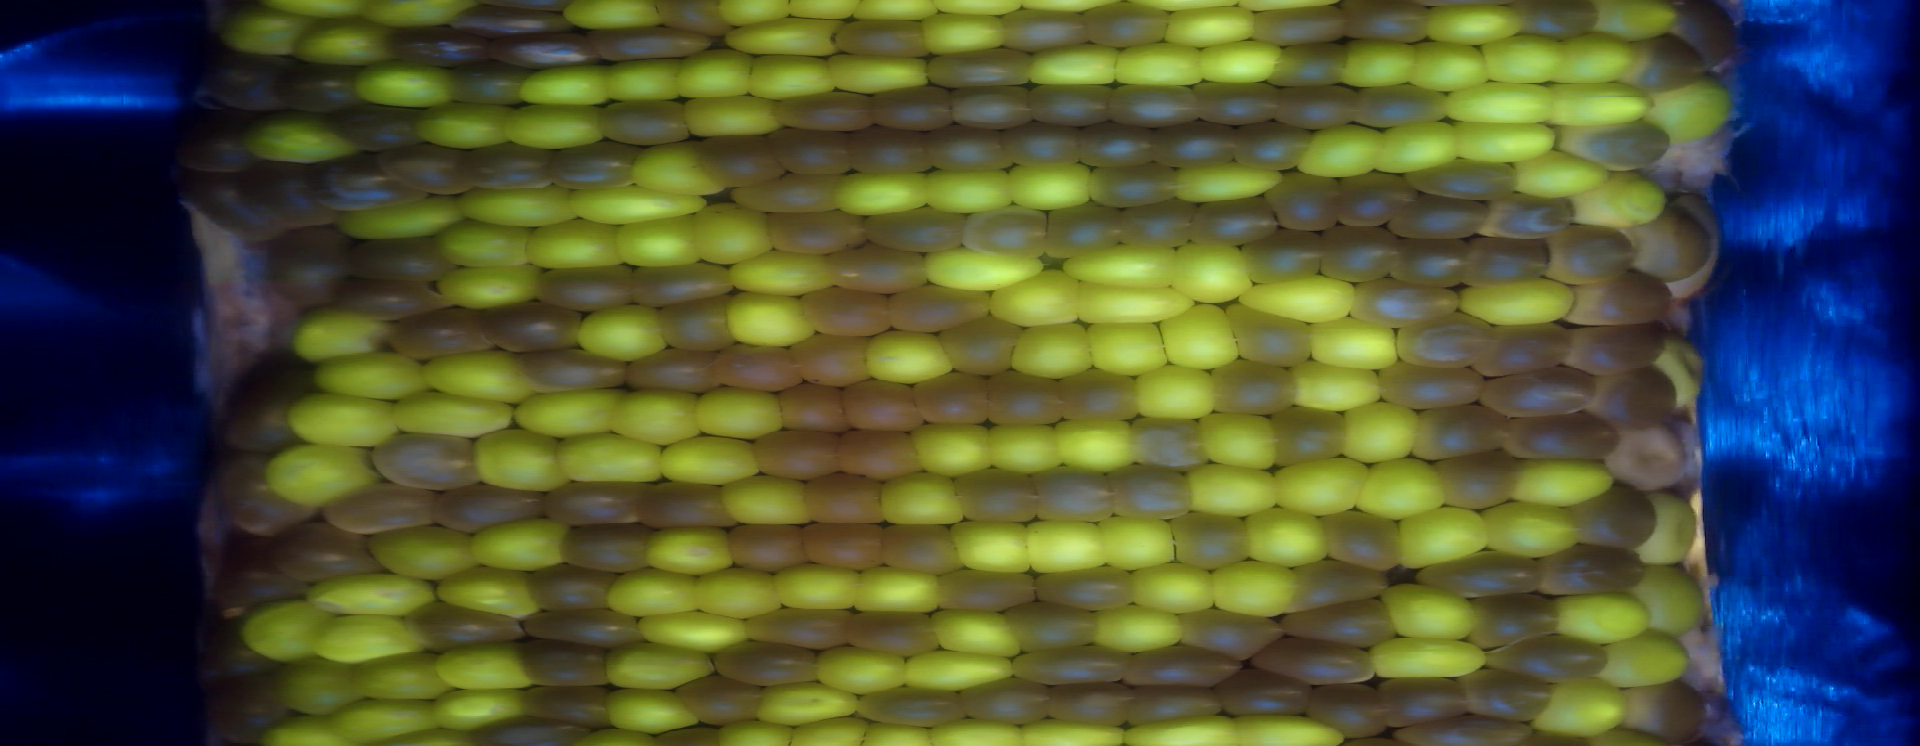fluorescent: (310, 345, 438, 404), (370, 521, 481, 586), (602, 635, 721, 695), (387, 388, 516, 443), (264, 441, 380, 502), (1447, 274, 1578, 327), (1234, 274, 1360, 328), (551, 428, 667, 485), (626, 138, 730, 201), (514, 382, 629, 439), (288, 304, 399, 361), (1160, 301, 1247, 375), (287, 390, 398, 446), (247, 111, 361, 167), (1057, 238, 1182, 288), (240, 597, 331, 665), (471, 428, 567, 492), (1482, 499, 1580, 561), (917, 239, 1044, 287), (579, 299, 675, 363), (860, 325, 956, 387), (1382, 575, 1473, 641), (1270, 457, 1371, 516), (1356, 454, 1444, 522), (433, 639, 539, 696), (609, 387, 703, 450), (517, 217, 626, 271), (1171, 240, 1258, 307), (996, 266, 1086, 330), (456, 183, 579, 229), (1397, 503, 1493, 563), (315, 616, 433, 664), (436, 563, 539, 619), (304, 575, 440, 616), (328, 197, 468, 238), (725, 288, 823, 345), (720, 472, 818, 529), (1084, 316, 1172, 380), (1209, 557, 1299, 619), (658, 432, 763, 485), (431, 349, 534, 403), (1308, 314, 1400, 374), (692, 386, 787, 443), (1444, 77, 1558, 125), (899, 646, 1019, 691), (1187, 461, 1281, 518), (931, 603, 1025, 660), (1555, 78, 1656, 132), (1507, 148, 1608, 202), (471, 521, 572, 575), (572, 183, 705, 223), (1600, 630, 1696, 686), (1536, 677, 1629, 735), (1649, 73, 1730, 140), (351, 54, 451, 108), (509, 100, 609, 154), (599, 677, 696, 733), (1129, 556, 1217, 616), (1515, 454, 1613, 508), (1242, 507, 1326, 570), (1291, 356, 1386, 412), (1298, 119, 1382, 180), (909, 416, 994, 477), (1009, 318, 1092, 380), (1078, 281, 1196, 323), (878, 472, 970, 527), (697, 202, 778, 265), (409, 98, 509, 148), (1551, 595, 1652, 646), (1344, 396, 1418, 464), (647, 523, 740, 577), (951, 516, 1035, 576), (604, 566, 703, 616), (735, 247, 836, 296), (730, 17, 842, 61), (814, 641, 910, 692), (1003, 159, 1093, 213), (853, 563, 944, 617), (1373, 637, 1487, 680), (639, 609, 749, 653), (757, 680, 861, 726), (1202, 409, 1280, 472), (1089, 601, 1187, 650), (1020, 517, 1103, 575), (830, 169, 933, 216), (921, 167, 1015, 217), (300, 16, 389, 69), (356, 649, 446, 702), (1640, 561, 1703, 635), (613, 214, 704, 266), (1097, 514, 1179, 571), (742, 51, 834, 102), (1054, 416, 1133, 475), (219, 7, 309, 59), (1378, 119, 1464, 171), (676, 96, 782, 138), (1136, 361, 1213, 420), (1641, 488, 1700, 565), (279, 654, 350, 718), (1458, 116, 1558, 162), (444, 219, 534, 269), (694, 565, 778, 619), (775, 560, 862, 611), (829, 45, 933, 88), (675, 48, 757, 102), (1412, 36, 1488, 93), (1198, 37, 1282, 88), (1487, 32, 1565, 87), (1653, 330, 1708, 408), (520, 64, 615, 109), (333, 696, 435, 737), (440, 265, 538, 307), (1591, 171, 1667, 227), (1228, 709, 1342, 746), (1340, 37, 1420, 88), (1172, 160, 1284, 197), (1429, 2, 1524, 45), (986, 420, 1063, 472), (1029, 43, 1118, 87), (1162, 7, 1256, 49), (918, 9, 1007, 53), (607, 54, 684, 104), (1116, 45, 1207, 85), (433, 687, 519, 726), (358, 1, 463, 33), (1011, 719, 1131, 746), (564, 1, 665, 33), (1123, 718, 1234, 746), (1566, 36, 1633, 81), (924, 718, 1022, 746), (266, 717, 356, 746), (1605, 2, 1679, 38), (782, 719, 869, 746), (711, 720, 787, 746), (858, 720, 931, 746)
nonfluorescent: (271, 518, 382, 588), (373, 428, 482, 496), (224, 356, 307, 445), (411, 595, 536, 654), (223, 451, 310, 534), (1251, 632, 1382, 687), (1275, 595, 1397, 653), (184, 170, 273, 246), (1412, 549, 1547, 599), (639, 472, 741, 538), (1565, 481, 1660, 551), (1621, 206, 1709, 281), (1318, 503, 1408, 576), (1180, 604, 1284, 666), (475, 296, 588, 353), (1538, 539, 1651, 595), (1408, 399, 1513, 459), (342, 233, 460, 285), (331, 269, 446, 323), (1572, 271, 1678, 330), (1549, 214, 1636, 285), (1480, 366, 1598, 418), (1562, 116, 1671, 171), (1583, 364, 1678, 428), (1430, 446, 1524, 510), (1010, 639, 1129, 690), (1220, 301, 1311, 366), (272, 225, 349, 303), (1462, 661, 1555, 725), (1269, 167, 1358, 233), (213, 554, 302, 620), (1482, 632, 1605, 680), (324, 480, 442, 530), (431, 481, 547, 532), (549, 477, 656, 530), (323, 151, 418, 212), (518, 673, 613, 733), (1504, 412, 1618, 462), (954, 465, 1047, 527), (709, 637, 820, 687), (999, 598, 1100, 653), (463, 138, 558, 196), (523, 601, 640, 648), (256, 160, 336, 229), (1112, 459, 1198, 523), (741, 601, 855, 649), (936, 314, 1022, 376), (1467, 592, 1561, 649), (530, 258, 631, 312), (589, 17, 711, 61), (982, 366, 1067, 430), (912, 369, 997, 432), (1029, 565, 1141, 612), (849, 603, 944, 659), (391, 134, 470, 201), (396, 309, 500, 360), (1561, 318, 1668, 369), (1124, 644, 1245, 688), (520, 345, 629, 394), (722, 519, 819, 575), (1615, 684, 1712, 739), (1402, 309, 1491, 367), (651, 296, 744, 353), (1349, 276, 1462, 322), (675, 670, 768, 726), (1376, 356, 1480, 407), (889, 281, 996, 330), (1171, 508, 1251, 572), (1375, 673, 1468, 728), (1030, 465, 1120, 522), (202, 51, 294, 107), (1220, 661, 1311, 717), (934, 563, 1040, 611), (1607, 425, 1689, 486), (1400, 160, 1520, 202), (730, 170, 840, 216), (624, 348, 724, 398), (1188, 192, 1284, 244), (1040, 676, 1136, 728), (384, 20, 489, 67), (1318, 219, 1397, 282), (841, 374, 926, 432), (878, 518, 962, 577), (1392, 190, 1487, 243), (956, 674, 1052, 725), (864, 202, 970, 249), (1054, 367, 1141, 424), (1247, 225, 1325, 288), (803, 469, 887, 528), (789, 330, 879, 383), (489, 24, 602, 67), (1213, 360, 1298, 418), (1631, 29, 1704, 96), (831, 243, 928, 293), (1482, 320, 1576, 371), (756, 425, 847, 478), (1309, 677, 1386, 740), (926, 118, 1015, 171), (524, 637, 613, 691), (778, 86, 876, 135), (855, 116, 934, 176), (855, 686, 966, 729), (557, 522, 654, 571), (1482, 192, 1573, 244), (1087, 156, 1177, 208), (1282, 402, 1349, 472), (204, 673, 276, 739), (1461, 232, 1556, 281), (768, 206, 866, 254), (958, 203, 1051, 254), (1356, 78, 1450, 127), (1123, 681, 1231, 724), (1390, 714, 1534, 746), (831, 425, 921, 477), (1387, 234, 1480, 283), (1134, 412, 1210, 472), (1267, 82, 1358, 132), (1188, 76, 1276, 127), (182, 111, 251, 178), (604, 96, 693, 146), (947, 78, 1033, 130), (713, 343, 800, 394), (798, 287, 891, 334), (333, 102, 424, 151), (693, 134, 784, 183), (1109, 82, 1204, 129), (931, 48, 1036, 89), (1116, 195, 1199, 247), (1294, 563, 1402, 604), (1236, 118, 1313, 174), (1042, 203, 1120, 258), (549, 137, 634, 187), (778, 122, 857, 176), (1025, 80, 1114, 127), (527, 565, 613, 614), (624, 262, 740, 299), (1679, 2, 1744, 67), (454, 2, 572, 38), (868, 82, 955, 130), (996, 6, 1089, 50), (1340, 1, 1435, 44), (778, 381, 849, 439), (803, 521, 887, 570), (1079, 119, 1160, 169), (1255, 2, 1344, 47), (1157, 119, 1236, 169), (475, 713, 589, 746), (833, 17, 931, 55), (451, 59, 527, 108), (1086, 2, 1167, 48), (1007, 120, 1086, 165), (289, 58, 358, 109), (1509, 2, 1600, 40), (1342, 170, 1404, 225), (1272, 43, 1349, 86), (665, 2, 730, 40)
